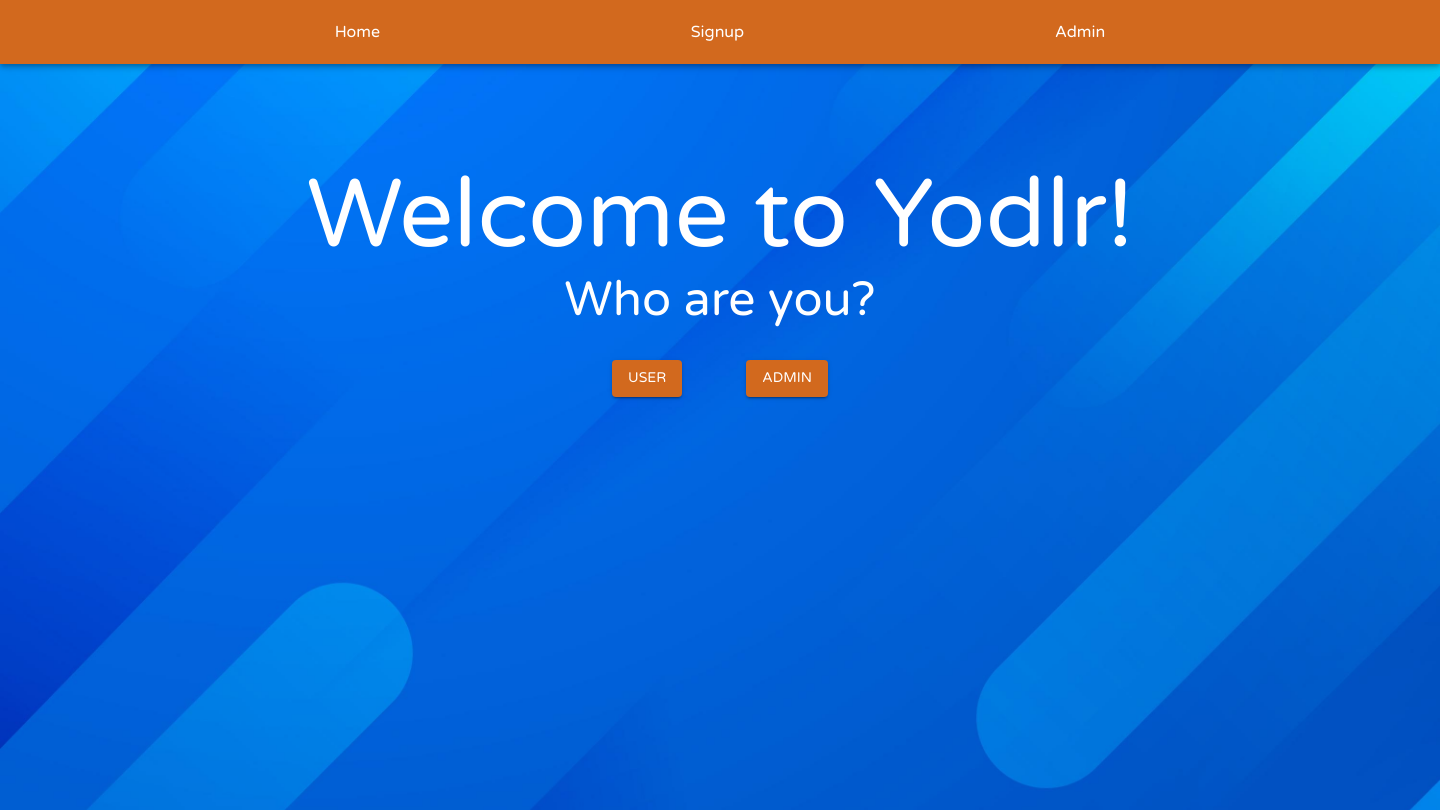
Test: signup link works
Expected: the text "Yodlr Registration Portal" is not shown
Click the link "Signup": [718, 32] box [691,22,744,42]
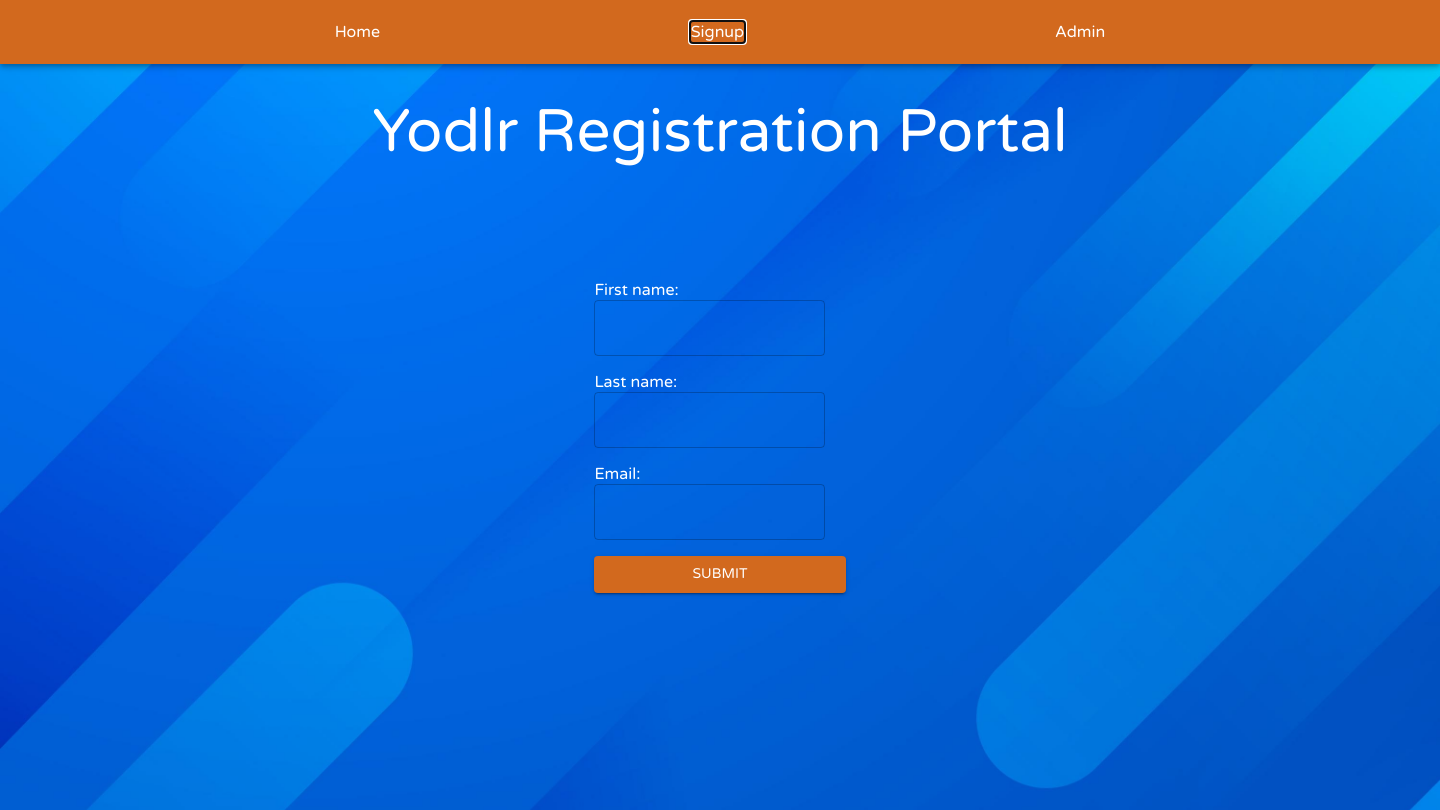
Now the heading "Yodlr Registration Portal" is shown, box [372,96,1068,168]
